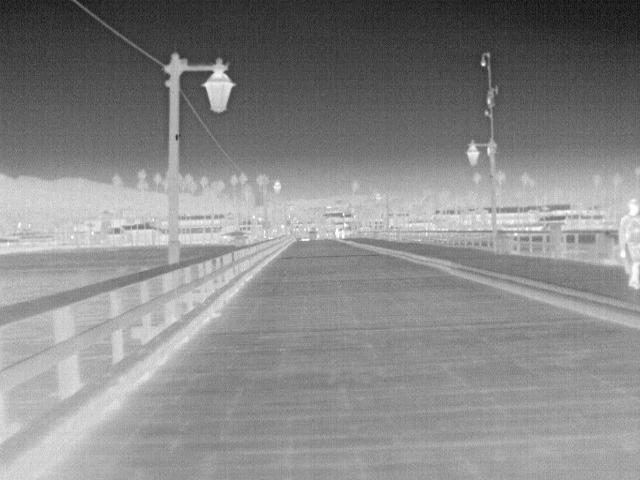person: (618, 197, 640, 292)
